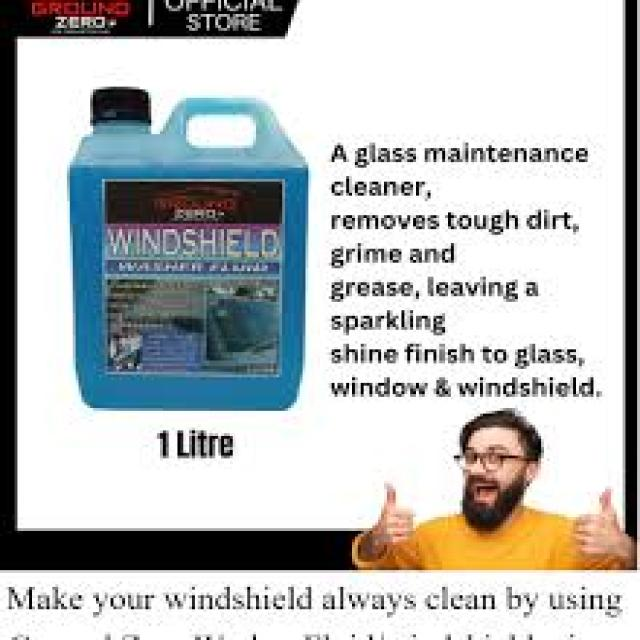winwinshield_washer: (56, 80, 313, 415)
